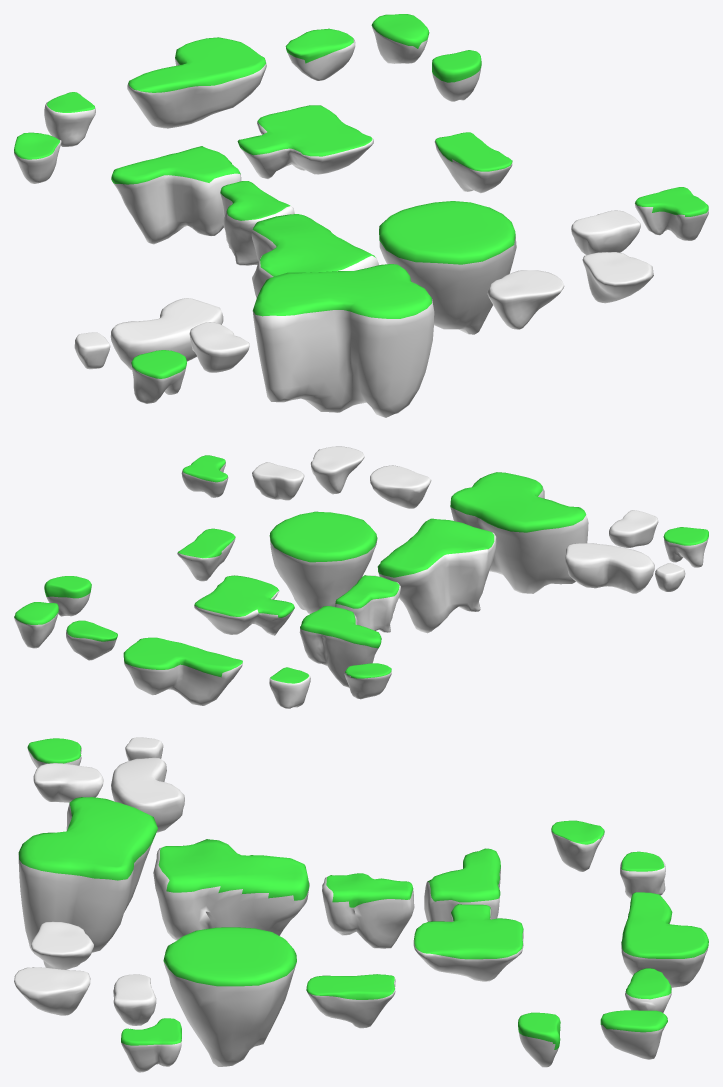
File: map_8.fbx
3 renders of one model, top to bottom at view 1: azimuth 30°, elevation 25°; view 2: azimuth 150°, elevation 25°; view 3: azimuth 270°, elevation 25°, orthographic. The views are drawn at different scales.
Visible parts, largest first — view 1: platform_r_05, platform_central_04.006, platform_central_04.002, platform_l_02.002, platform_central_04.005, platform_central_04.004, platform_r_09.006, platform_central_04.003, platform_central_04, platform_r_09.004, platform_r_01, platform_r_09.003 (+9 smaller); view 2: platform_r_05, platform_central_04.004, platform_central_04.006, platform_l_02.002, platform_central_04.005, platform_central_04.002, platform_r_09.006, platform_central_04.003, platform_r_09.004, platform_central_04, platform_r_09.003, platform_l_02 (+9 smaller); view 3: platform_r_05, platform_central_04.006, platform_central_04.004, platform_central_04.005, platform_l_02.002, platform_central_04.003, platform_central_04.002, platform_central_04, platform_r_09.006, platform_r_09.003, platform_l_02, platform_r_01 (+9 smaller).
Part boxes in pixels (bbox=[...]): platform_r_05: bbox=[252, 264, 434, 417]; platform_central_04.006: bbox=[379, 201, 516, 334]; platform_central_04.002: bbox=[111, 146, 241, 244]; platform_l_02.002: bbox=[127, 37, 266, 128]; platform_central_04.005: bbox=[237, 105, 373, 178]; platform_central_04.004: bbox=[251, 214, 378, 298]; platform_r_09.006: bbox=[110, 298, 223, 369]; platform_central_04.003: bbox=[220, 181, 294, 265]; platform_central_04: bbox=[434, 132, 512, 193]; platform_r_09.004: bbox=[487, 270, 564, 329]; platform_r_01: bbox=[635, 187, 708, 240]; platform_r_09.003: bbox=[582, 252, 653, 303]; platform_r_05: bbox=[450, 472, 588, 593]; platform_central_04.004: bbox=[377, 518, 496, 633]; platform_central_04.006: bbox=[269, 511, 377, 613]; platform_l_02.002: bbox=[123, 637, 242, 705]; platform_central_04.005: bbox=[194, 575, 294, 635]; platform_central_04.002: bbox=[299, 606, 381, 687]; platform_r_09.006: bbox=[565, 543, 654, 593]; platform_central_04.003: bbox=[334, 575, 401, 632]; platform_r_09.004: bbox=[370, 465, 431, 508]; platform_central_04: bbox=[177, 528, 235, 581]; platform_r_09.003: bbox=[310, 446, 364, 494]; platform_l_02: bbox=[14, 602, 58, 648]; platform_r_05: bbox=[18, 797, 157, 956]; platform_central_04.006: bbox=[163, 927, 296, 1066]; platform_central_04.004: bbox=[153, 839, 309, 940]; platform_central_04.005: bbox=[413, 904, 523, 981]; platform_l_02.002: bbox=[621, 892, 708, 987]; platform_central_04.003: bbox=[322, 873, 414, 948]; platform_central_04.002: bbox=[424, 848, 500, 921]; platform_central_04: bbox=[306, 974, 395, 1028]; platform_r_09.006: bbox=[111, 757, 184, 832]; platform_r_09.003: bbox=[14, 967, 90, 1015]; platform_l_02: bbox=[600, 1010, 667, 1059]; platform_r_01: bbox=[121, 1018, 181, 1072].
Size of the model in its own units: 120 by 25.97 by 118.
